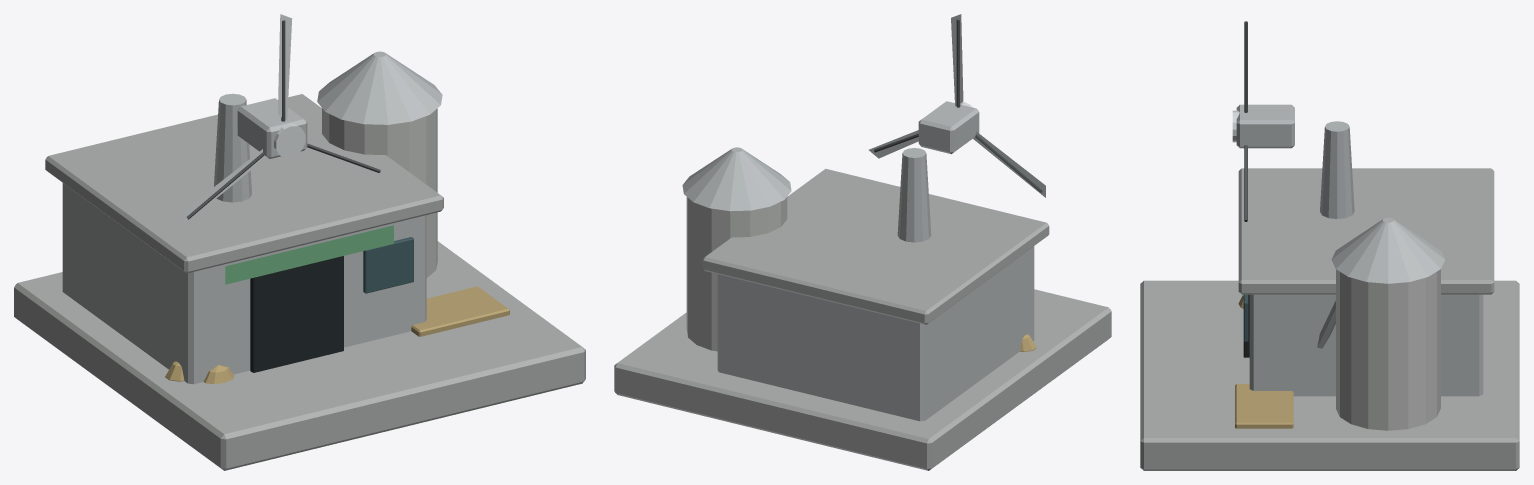
Rendered from edificio-farm-e5-CsXh1v7G.glb.
3 renders of one model, left to right at view 1: azimuth 30°, elevation 25°; view 2: azimuth 150°, elevation 25°; view 3: azimuth 270°, elevation 25°, orthographic. The views are drawn at different scales.
Parts seen in each view (by area): view 1: molino_e5_envolvente, rotor_molino, molino_e5_team_color; view 2: molino_e5_envolvente, rotor_molino; view 3: molino_e5_envolvente, rotor_molino.
Part boxes in pixels (box(x1,y1,x2,y2)): molino_e5_envolvente: box(14, 51, 585, 470); rotor_molino: box(183, 14, 386, 225); molino_e5_team_color: box(225, 225, 393, 284); molino_e5_envolvente: box(614, 101, 1111, 470); rotor_molino: box(869, 14, 1045, 197); molino_e5_envolvente: box(1140, 104, 1519, 470); rotor_molino: box(1232, 21, 1247, 221).
Bounding box in the file's own units: 52 × 52.8 × 52.
